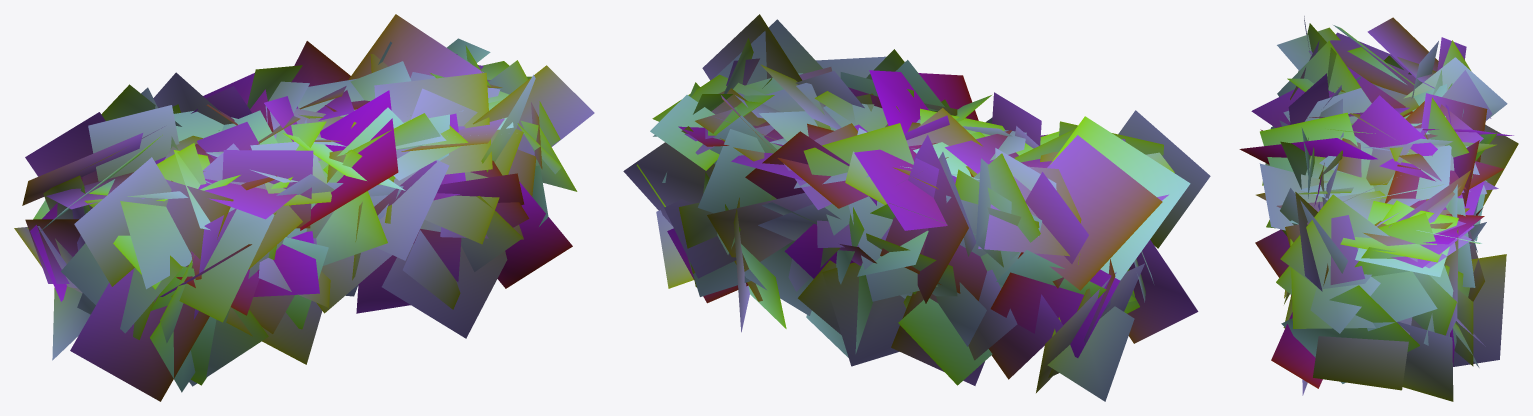
Rendered from tree_box_a.glb.
The picture shows the model from 3 angles, left to right: view 1: azimuth 30°, elevation 25°; view 2: azimuth 150°, elevation 25°; view 3: azimuth 270°, elevation 25°; orthographic projection. The views are drawn at different scales.
Visible parts, largest first — view 1: tree_box_a; view 2: tree_box_a; view 3: tree_box_a.
Boxes of the visible parts, x1,y1,x2,y2 form: tree_box_a: (14, 14, 594, 401); tree_box_a: (623, 14, 1210, 401); tree_box_a: (1239, 16, 1518, 401).
Bounding box in the file's own units: 2.25 × 1.07 × 1.13.
